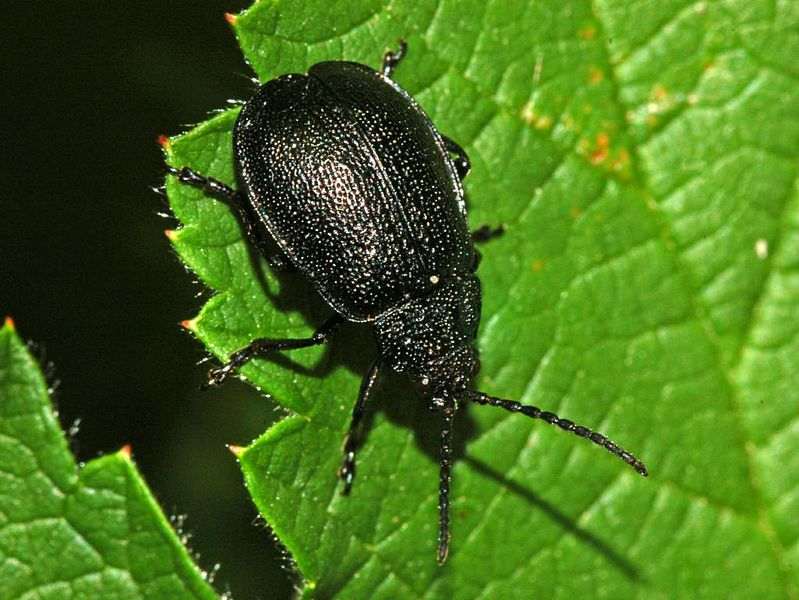Galeruca_tanaceti: (151, 37, 657, 565)
